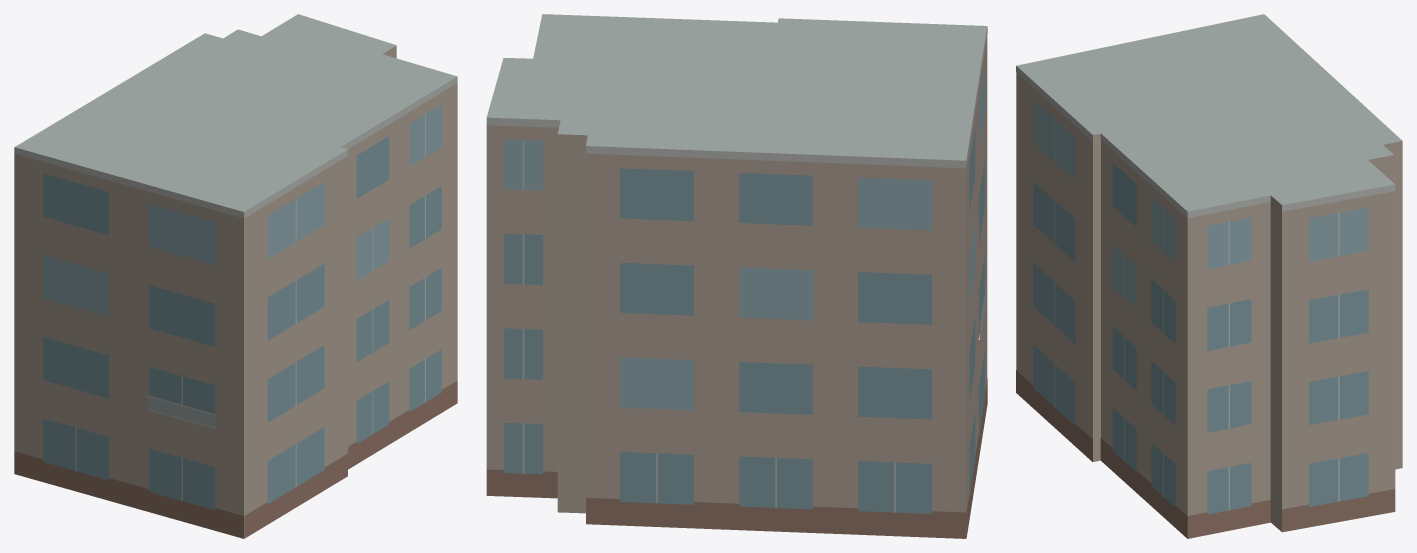
File: survey-upis-32799841.glb
3 views of the same model, side by side, from view 1: azimuth 30°, elevation 25°; view 2: azimuth 150°, elevation 25°; view 3: azimuth 270°, elevation 25° (orthographic). The views are drawn at different scales.
Parts seen in each view (by area): view 1: survey-upis-32799841.tmp; view 2: survey-upis-32799841.tmp; view 3: survey-upis-32799841.tmp.
Boxes of the visible parts, <box> form: survey-upis-32799841.tmp: <box>14,14,457,538</box>; survey-upis-32799841.tmp: <box>486,14,987,538</box>; survey-upis-32799841.tmp: <box>1016,14,1402,538</box>.
Size of the model in its own units: 15.82 by 12.2 by 13.07.
